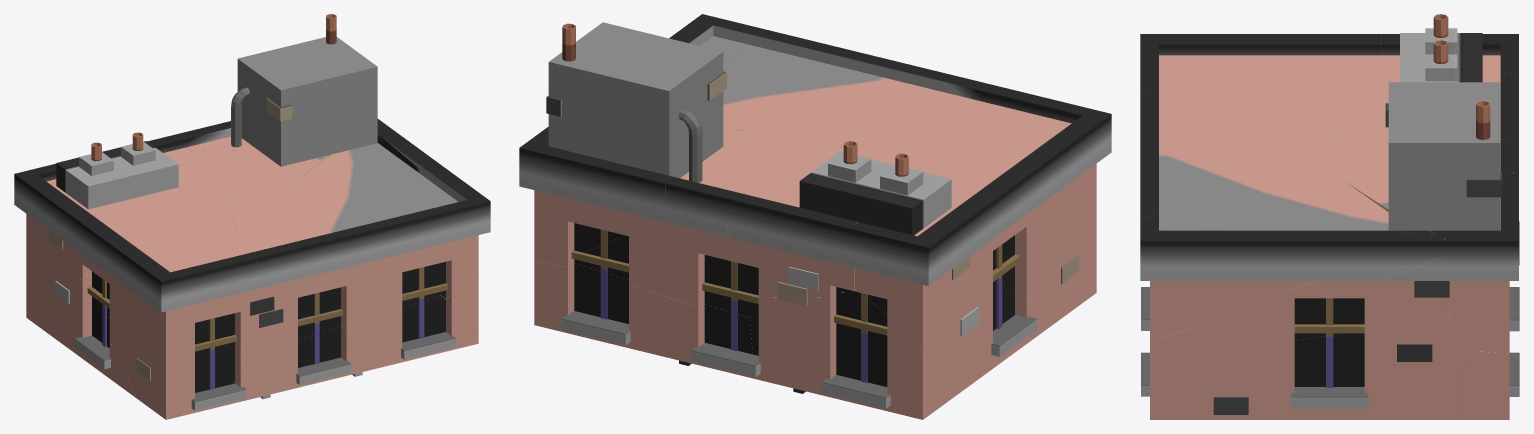
Rendered from House_2_top_cell.fbx.
The picture shows the model from 3 angles, left to right: view 1: azimuth 30°, elevation 25°; view 2: azimuth 150°, elevation 25°; view 3: azimuth 270°, elevation 25°; orthographic projection. The views are drawn at different scales.
Parts seen in each view (by area): view 1: polySurface298_cell.012, polySurface298_cell.010, pCube2, polySurface298_cell.007, polySurface298_cell.013, polySurface229, polySurface298_cell.009, polySurface298_cell.004, polySurface298_cell.008, polySurface298_cell.006, polySurface298_cell.011, polySurface298_cell.003 (+6 smaller); view 2: polySurface298_cell.012, pCube2, polySurface298_cell.010, polySurface298_cell.005, polySurface298_cell.006, polySurface298_cell.008, polySurface298_cell, polySurface298_cell.001, polySurface298_cell.011, polySurface229, polySurface298_cell.004, polySurface298_cell.003 (+12 smaller); view 3: polySurface298_cell.002, polySurface298_cell.009, polySurface298_cell.013, polySurface298_cell.012, polySurface298_cell.010, pCube2, polySurface298_cell, polySurface229, polySurface298_cell.006, polySurface298_cell.001, polySurface298_cell.011, polySurface298_cell.008 (+15 smaller).
Boxes of the visible parts, x1,y1,x2,y2 form: polySurface298_cell.012: (64,204,256,419); polySurface298_cell.010: (225,187,459,360); pCube2: (237,37,377,166); polySurface298_cell.007: (228,295,474,404); polySurface298_cell.013: (290,135,478,305); polySurface229: (56,141,178,209); polySurface298_cell.009: (377,119,490,283); polySurface298_cell.004: (29,259,136,398); polySurface298_cell.008: (14,163,143,268); polySurface298_cell.006: (192,150,328,201); polySurface298_cell.011: (134,133,230,204); polySurface298_cell.003: (183,122,258,151); polySurface298_cell.012: (857,85,1111,318); pCube2: (548,22,723,178); polySurface298_cell.010: (744,25,992,147); polySurface298_cell.005: (748,292,931,419); polySurface298_cell.006: (572,130,842,317); polySurface298_cell.008: (851,194,994,352); polySurface298_cell: (519,126,665,267); polySurface298_cell.001: (534,260,752,377); polySurface298_cell.011: (719,148,866,297); polySurface229: (799,152,951,235); polySurface298_cell.004: (927,266,1060,416); polySurface298_cell.003: (639,168,729,240); polySurface298_cell.002: (1150,321,1465,419); polySurface298_cell.009: (1140,214,1444,342); polySurface298_cell.013: (1150,171,1447,364); polySurface298_cell.012: (1140,34,1382,129); polySurface298_cell.010: (1140,94,1329,225); pCube2: (1388,82,1500,230); polySurface298_cell: (1444,167,1518,353); polySurface229: (1400,28,1482,82); polySurface298_cell.006: (1329,135,1481,353); polySurface298_cell.001: (1457,351,1509,419); polySurface298_cell.011: (1324,73,1518,148); polySurface298_cell.008: (1378,34,1518,91).
Size of the model in its own units: 1428 by 1033 by 1107.
